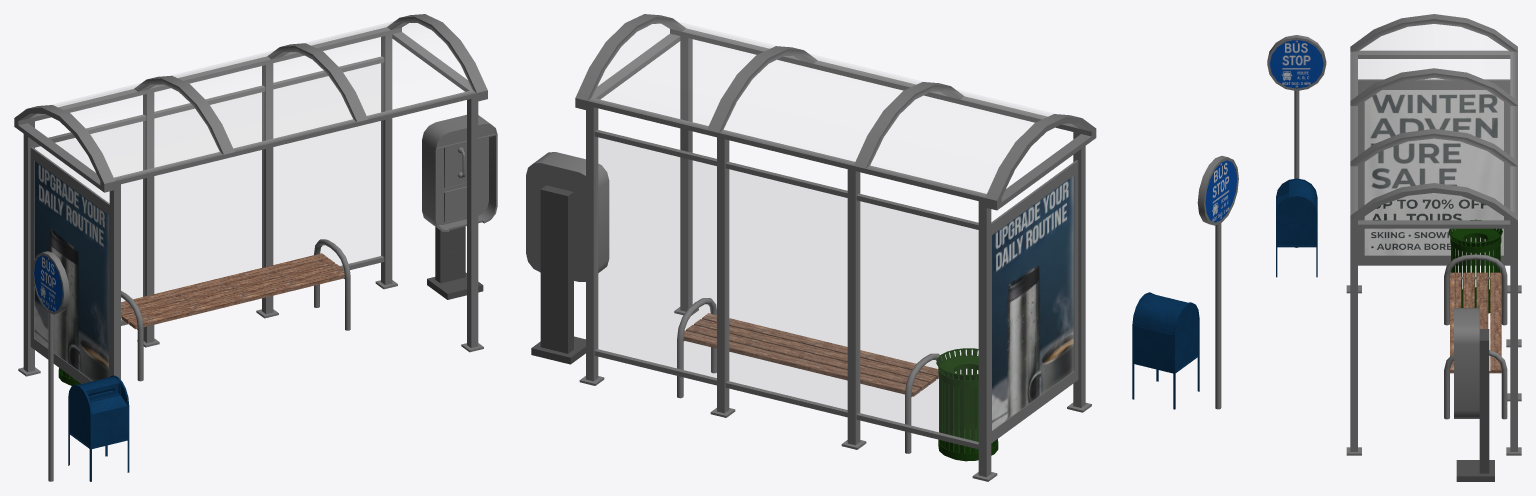
3 renders of one model, left to right at view 1: azimuth 30°, elevation 25°; view 2: azimuth 150°, elevation 25°; view 3: azimuth 270°, elevation 25°, orthographic. The views are drawn at different scales.
Visible parts, largest first — view 1: bus_stop_1, public_phone_4, bench_0, postmail_3, sign_5; view 2: bus_stop_1, public_phone_4, bench_0, postmail_3, trashcan_6, sign_5; view 3: bus_stop_1, public_phone_4, bench_0, sign_5, postmail_3, trashcan_6.
Part boxes in pixels (x1,y1,x2,y2): bus_stop_1: [14, 14, 487, 383]; public_phone_4: [422, 114, 497, 299]; bench_0: [121, 239, 350, 381]; postmail_3: [68, 375, 129, 481]; sign_5: [32, 251, 69, 481]; bus_stop_1: [575, 14, 1096, 481]; public_phone_4: [526, 152, 609, 364]; bench_0: [677, 298, 942, 453]; postmail_3: [1132, 292, 1199, 409]; trashcan_6: [936, 348, 998, 461]; sign_5: [1197, 156, 1238, 409]; bus_stop_1: [1346, 14, 1521, 455]; public_phone_4: [1454, 308, 1494, 481]; bench_0: [1444, 254, 1507, 419]; sign_5: [1267, 35, 1326, 247]; postmail_3: [1276, 178, 1317, 277]; trashcan_6: [1448, 219, 1502, 313].
Bounding box in the file's own units: 4.48 × 2.33 × 1.99.
Materials: 2 (1 with a texture image).
